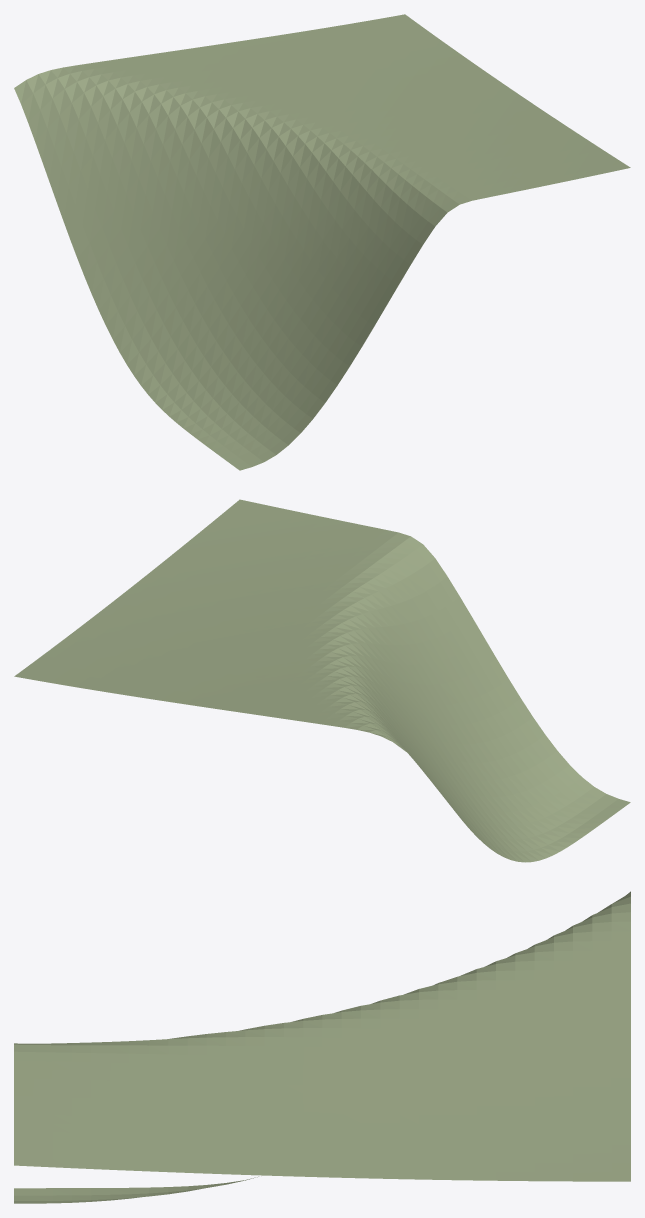
The model's file is canyon-2-0.glb.
3 renders of one model, top to bottom at view 1: azimuth 30°, elevation 25°; view 2: azimuth 150°, elevation 25°; view 3: azimuth 270°, elevation 25°, orthographic. The views are drawn at different scales.
Parts seen in each view (by area): view 1: canyon-2-0; view 2: canyon-2-0; view 3: canyon-2-0.
Part boxes in pixels (x1=…): canyon-2-0: x1=14, y1=14, x2=630, y2=470; canyon-2-0: x1=14, y1=499, x2=630, y2=862; canyon-2-0: x1=14, y1=891, x2=630, y2=1203.
Size of the model in its own units: 128 by 70.76 by 128.
